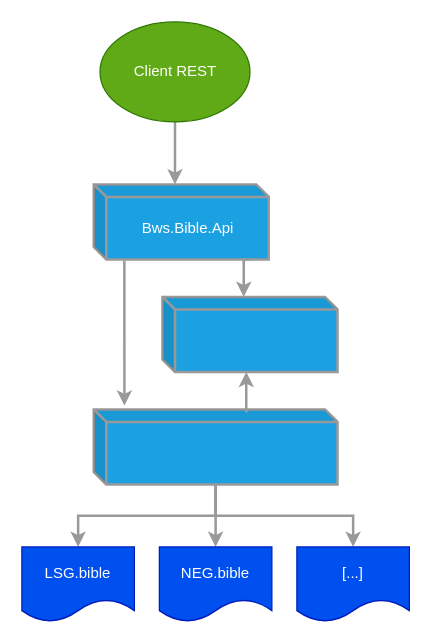
This 431x644 diagram has some shape labels left out. Here are the shapes that lost their labels. From the top down, the box of each, then its label:
(161, 295, 338, 372): Bws.Bible.Core
(92, 408, 338, 485): Bws.Bible. Infrastructure
